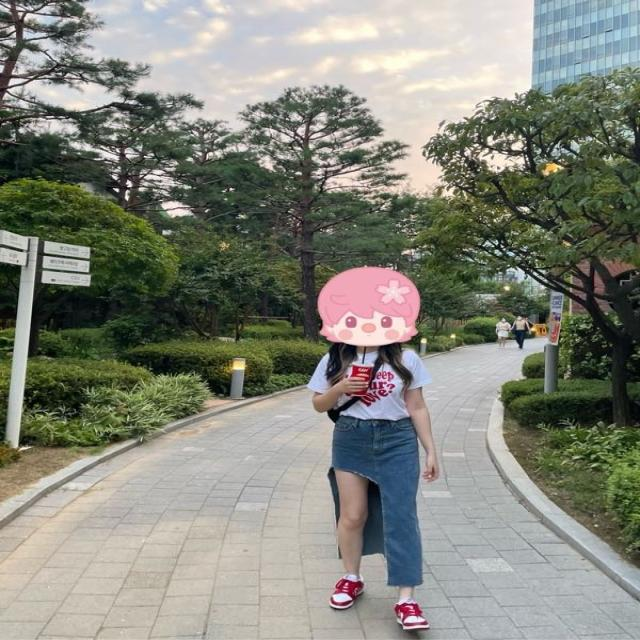shortsleeve: (309, 350, 427, 419)
skirt: (328, 416, 423, 587)
